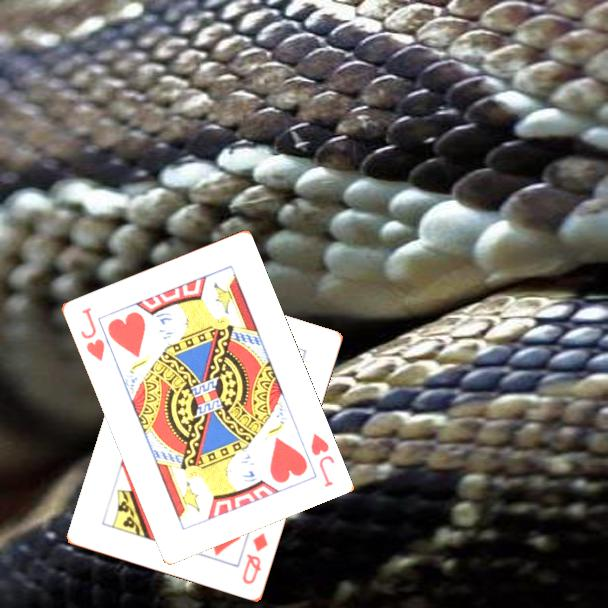d12: (239, 530, 271, 588)
h11: (76, 304, 107, 364), (307, 430, 337, 490)
